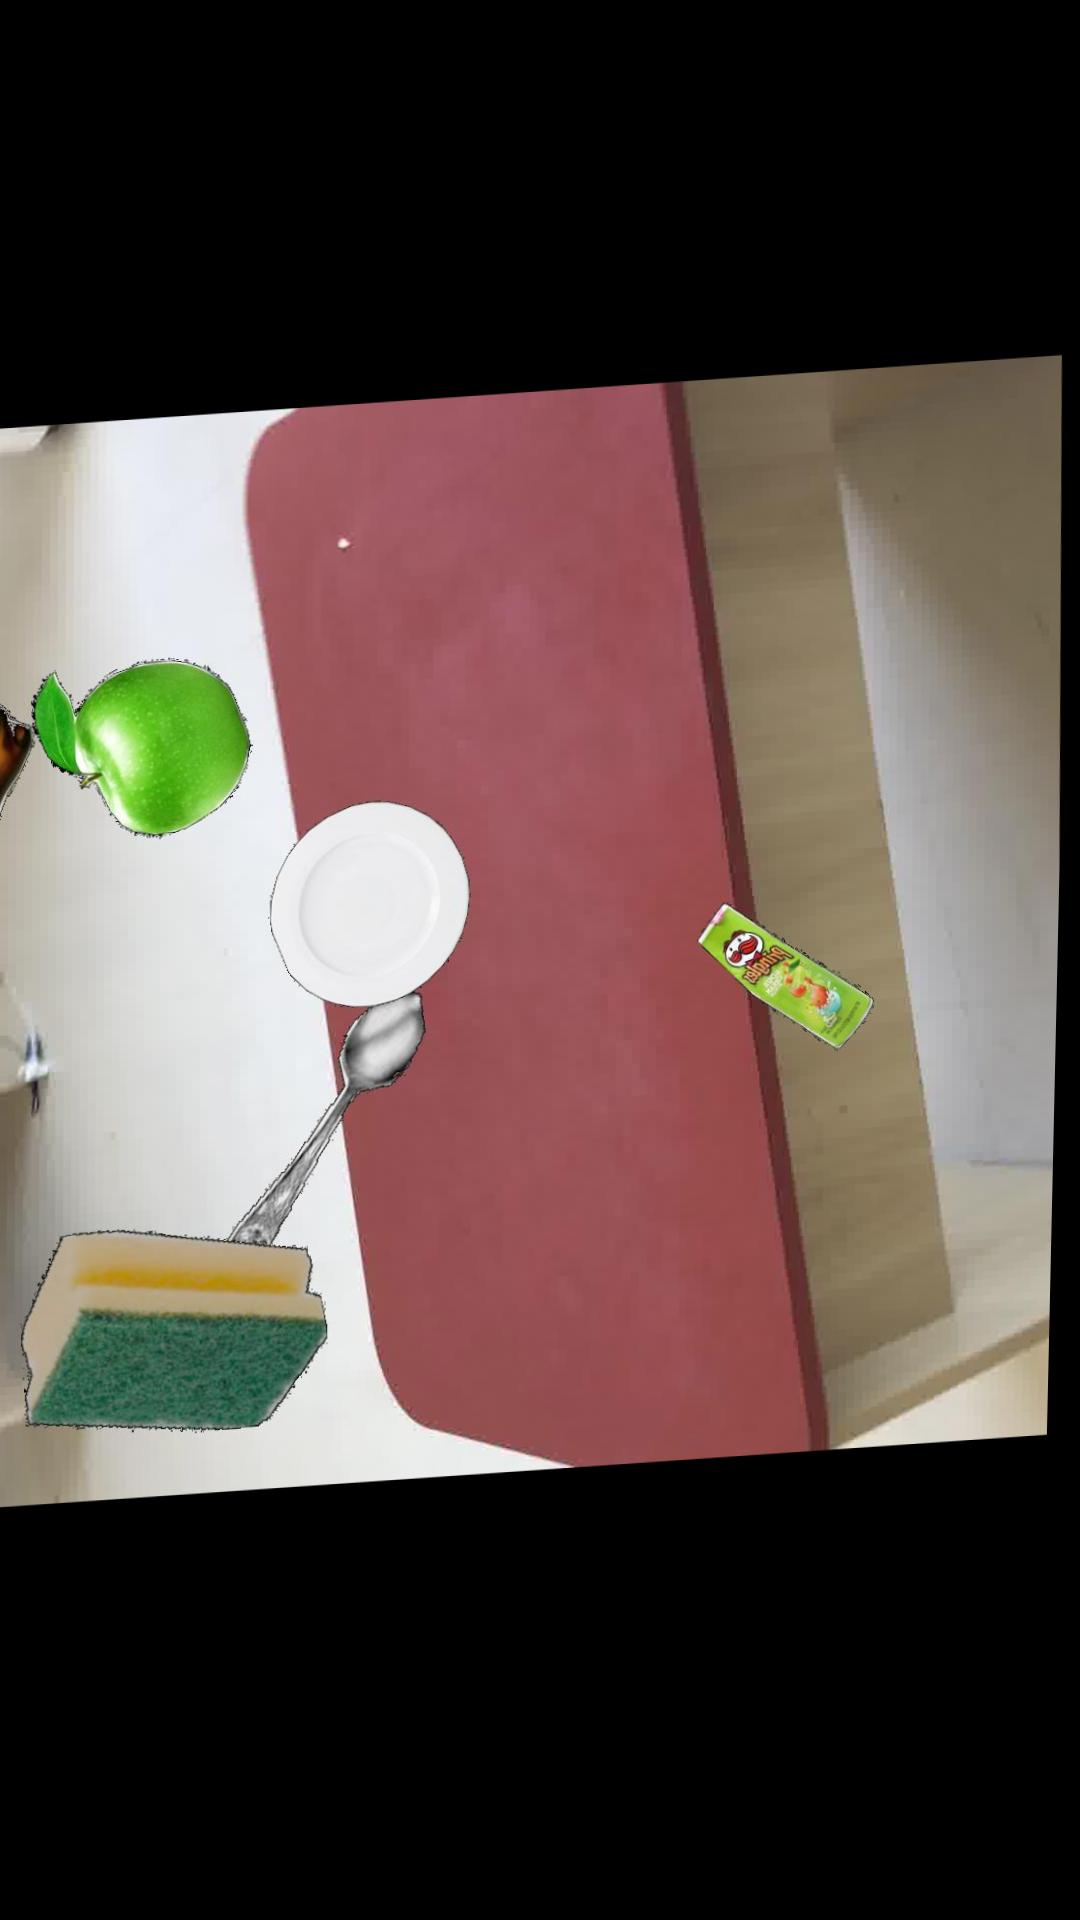green apple: (32, 661, 253, 839)
plate: (272, 804, 472, 1010)
pringles: (699, 910, 876, 1058)
sponge: (25, 1229, 331, 1433)
spoon: (229, 994, 427, 1247)
